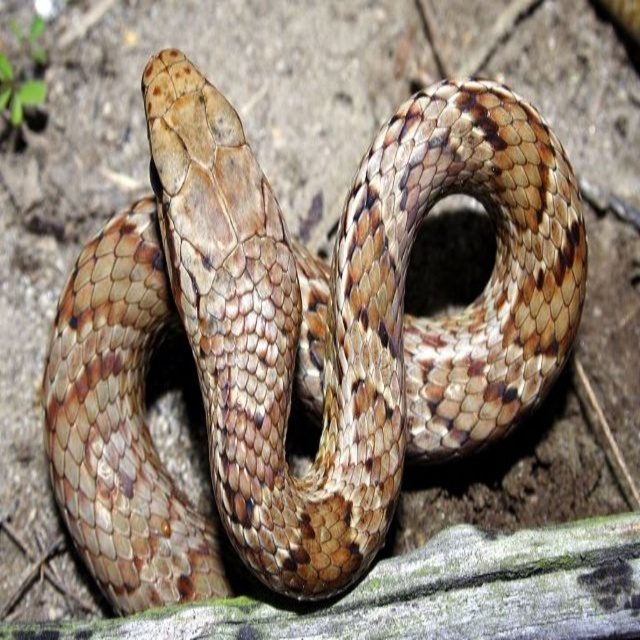Snake: (41, 47, 588, 618)
